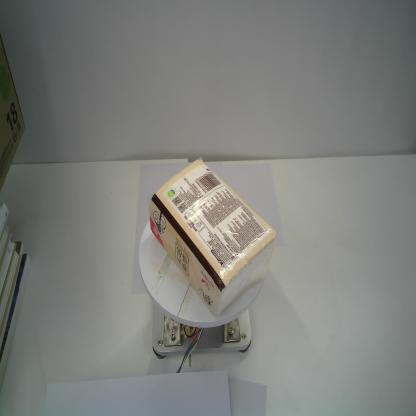Tissue: (147, 155, 278, 317)
